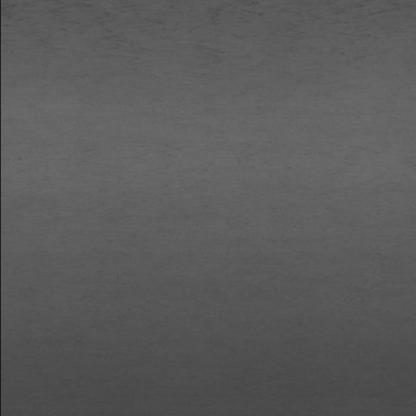silk_spot: (59, 0, 369, 92)
